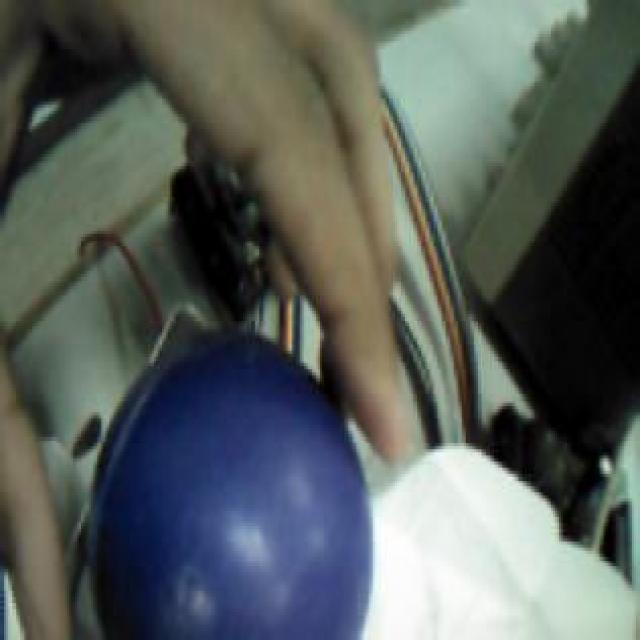BallPurple: (94, 335, 375, 640)
